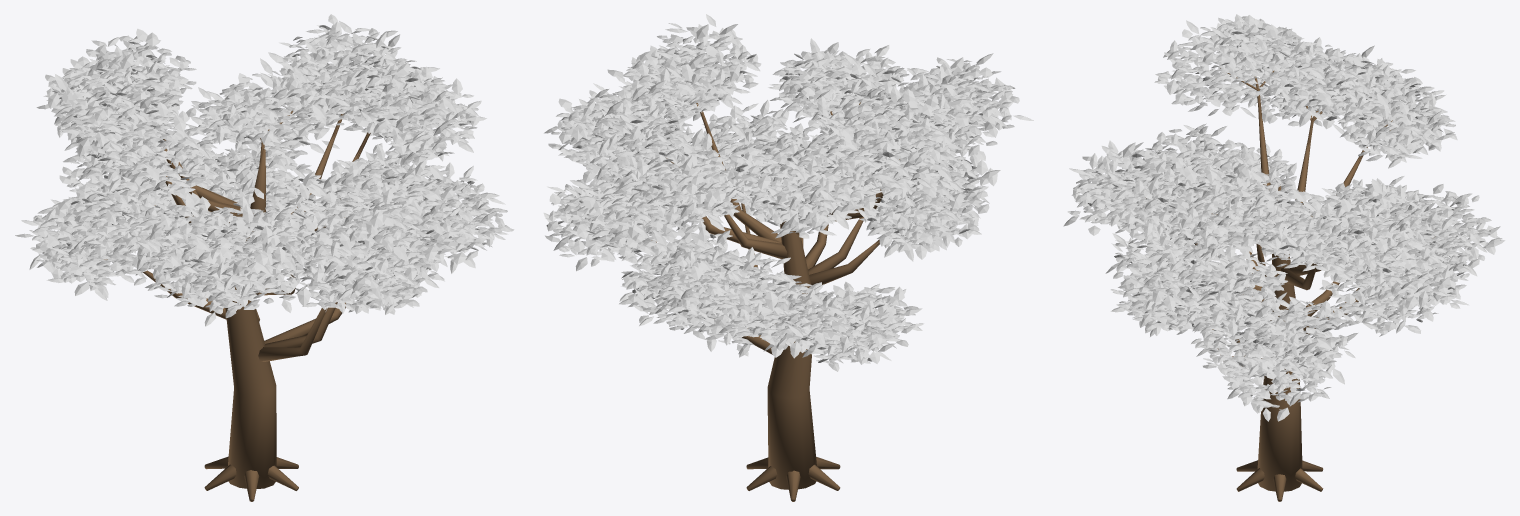
Rendered from tree-pohutukawa.glb.
The picture shows the model from 3 angles, left to right: view 1: azimuth 30°, elevation 25°; view 2: azimuth 150°, elevation 25°; view 3: azimuth 270°, elevation 25°; orthographic projection. The views are drawn at different scales.
Parts seen in each view (by area): view 1: tree-pohutukawa export; view 2: tree-pohutukawa export; view 3: tree-pohutukawa export.
Part boxes in pixels (box(x1,y1,x2,y2)): tree-pohutukawa export: box(15, 14, 514, 501); tree-pohutukawa export: box(543, 14, 1033, 501); tree-pohutukawa export: box(1063, 14, 1505, 501).
Bounding box in the file's own units: 10.66 × 10.02 × 10.01.
